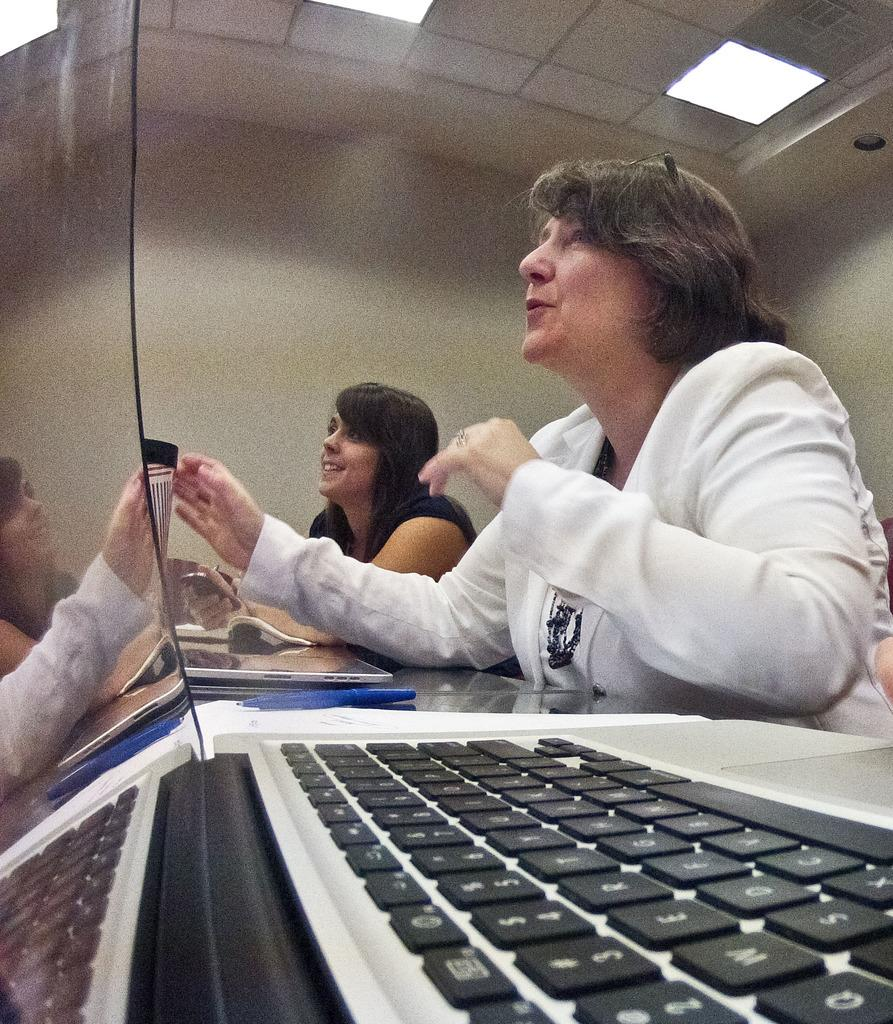Computer-keyboard: (273, 733, 892, 1023)
